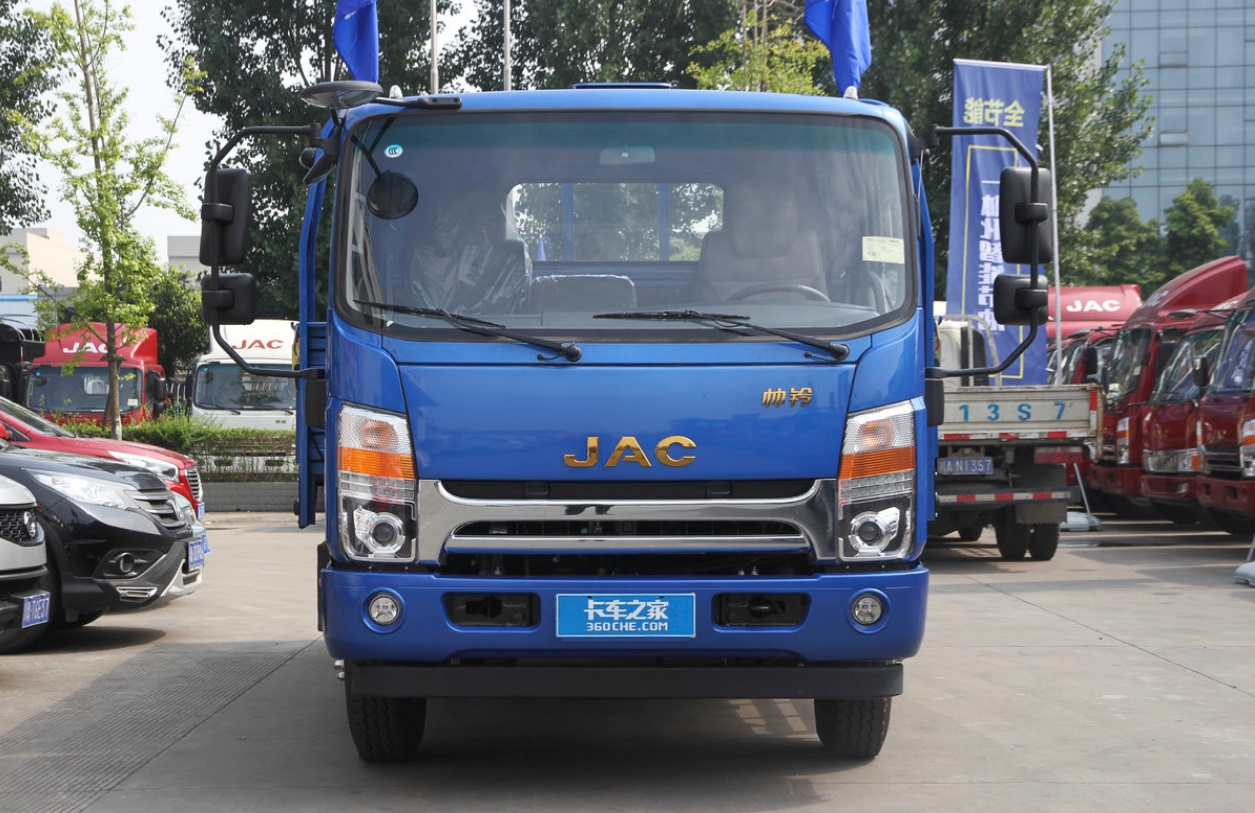truck: (190, 70, 1059, 777)
